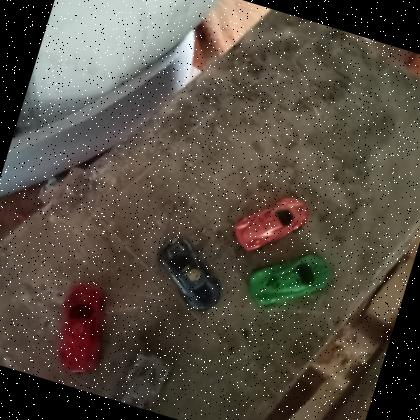Car: (240, 235, 340, 326), (42, 276, 120, 384), (146, 231, 236, 317), (227, 180, 316, 266)
